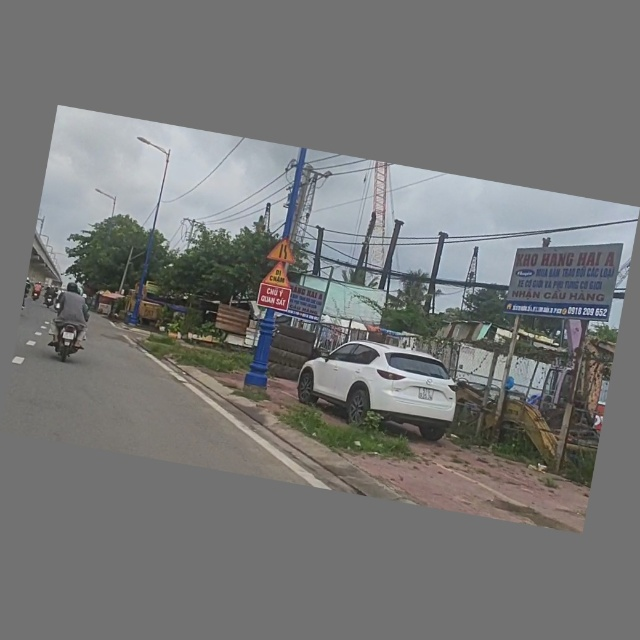W.203c: (266, 235, 300, 264)
W.245a: (261, 260, 297, 290)
